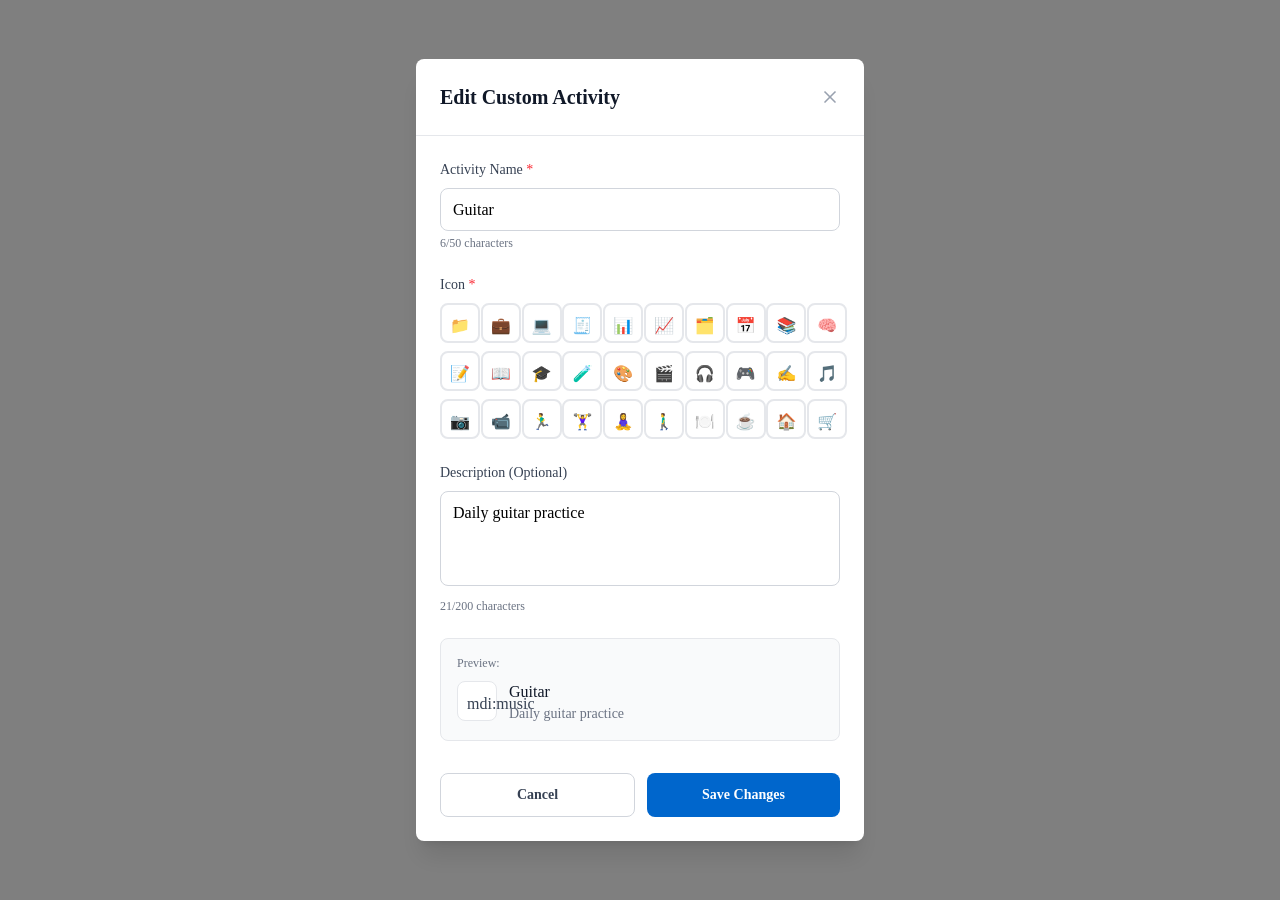
Test case: EditCustomActivityModal › Form Validation › should prevent duplicate names (excluding current activity)
Replace the text in the field labelled "Activity Name *" with "Piano" at (640, 210), box [440, 188, 840, 231]
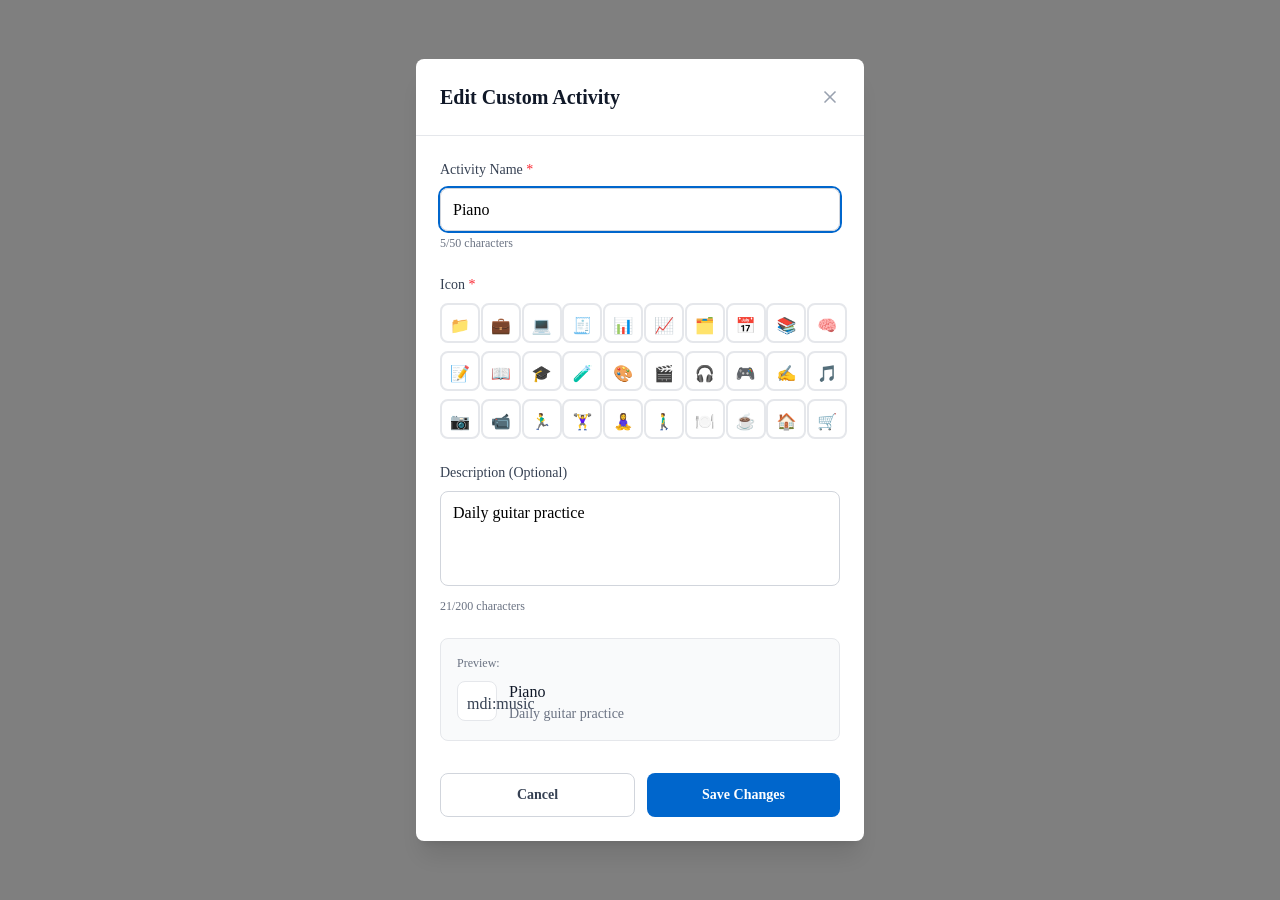
Click the button "Save Changes" at (744, 795), box [647, 773, 840, 817]
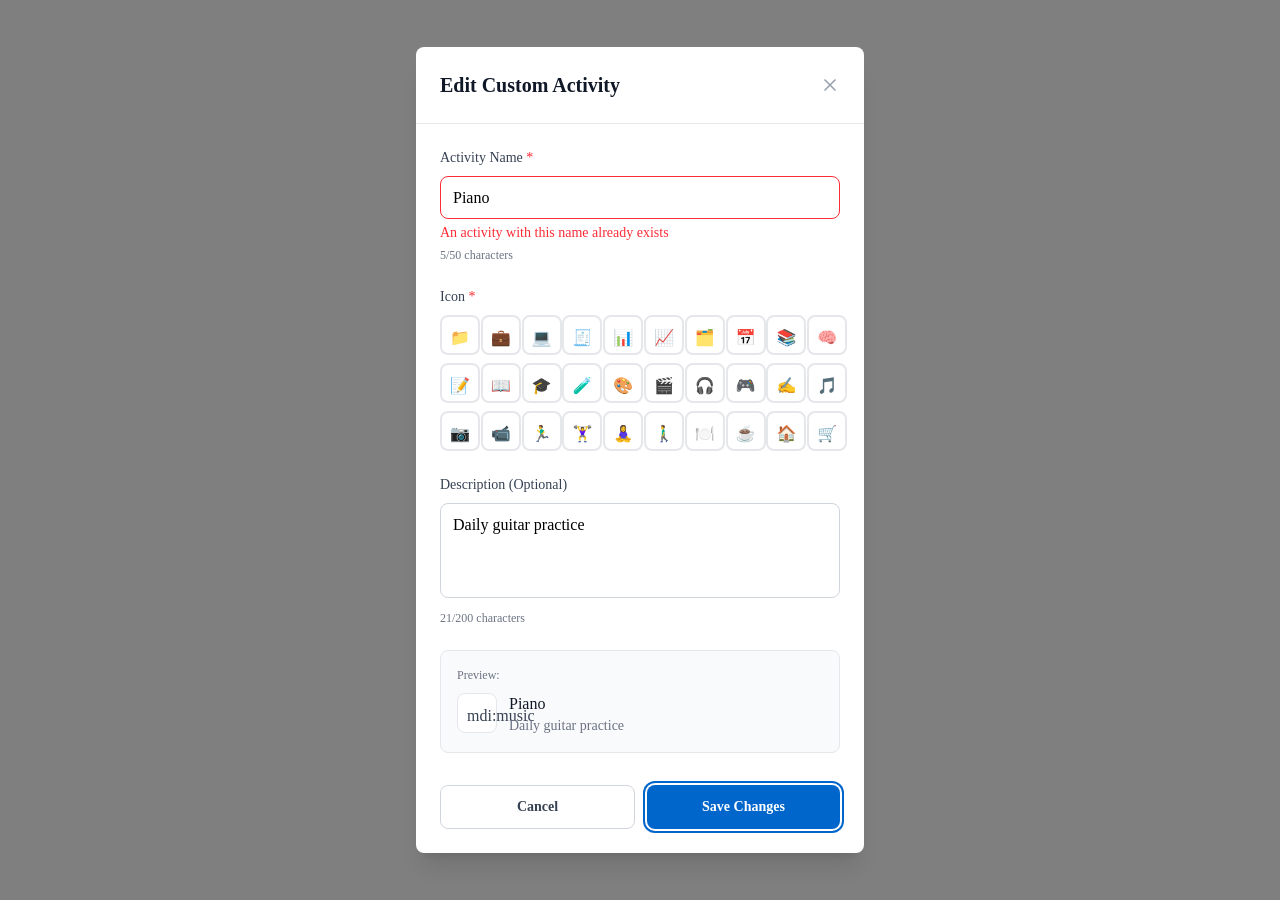
Check: the text "An activity with this name already exists" is shown, box [440, 225, 669, 240]
